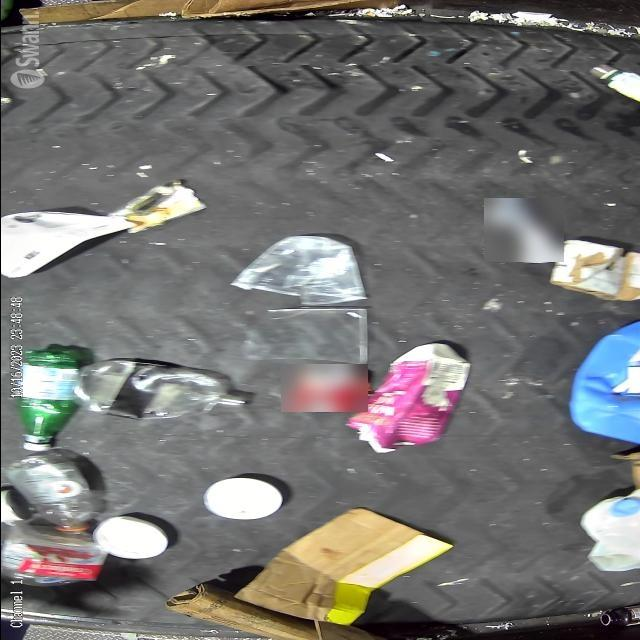milk_jug: (581, 494, 640, 568)
non_white_jug: (346, 343, 470, 453), (568, 315, 640, 443)
plastic_bottle: (74, 360, 245, 420), (8, 451, 94, 534)
